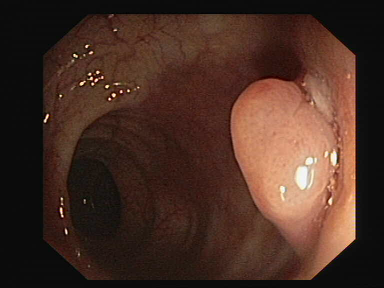polyp: (206, 69, 351, 242)
